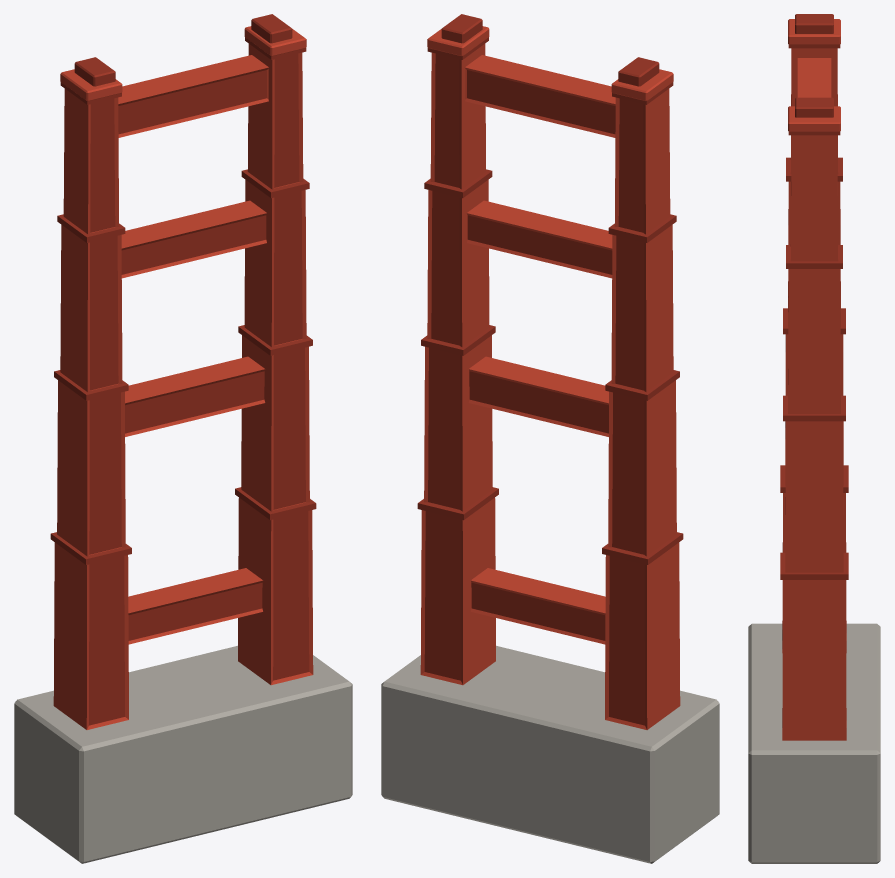
Rendered from Bridge_Tower.glb.
3 renders of one model, left to right at view 1: azimuth 30°, elevation 25°; view 2: azimuth 150°, elevation 25°; view 3: azimuth 270°, elevation 25°, orthographic. The views are drawn at different scales.
Parts seen in each view (by area): view 1: Bridge_Tower_Mesh; view 2: Bridge_Tower_Mesh; view 3: Bridge_Tower_Mesh.
Part boxes in pixels (<box>): Bridge_Tower_Mesh: <box>14,14,352,863</box>; Bridge_Tower_Mesh: <box>381,14,719,863</box>; Bridge_Tower_Mesh: <box>748,14,880,863</box>.
Size of the model in its own units: 22 by 58.6 by 9.5.
1 material, 1 textured.
